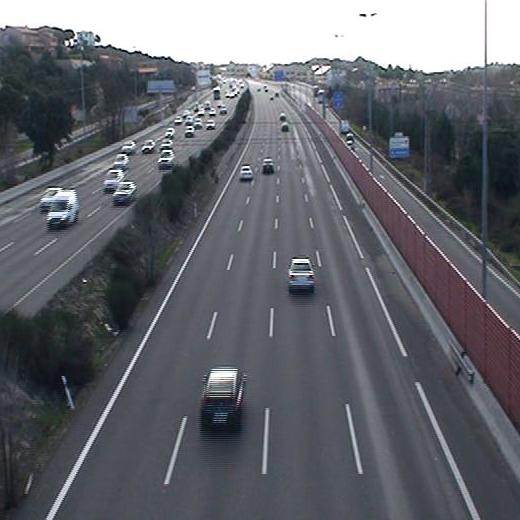car: (200, 366, 242, 430), (287, 257, 316, 289), (238, 164, 253, 180), (262, 158, 273, 173), (281, 124, 290, 133)
